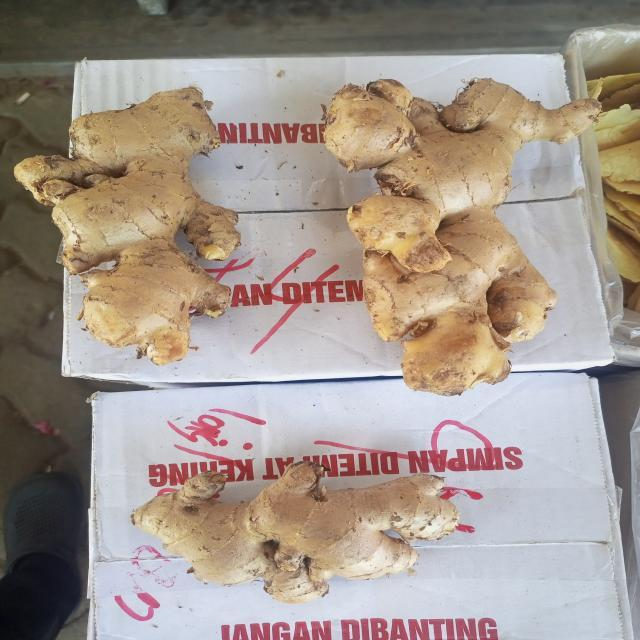ginger: (318, 72, 592, 386), (22, 92, 222, 351), (128, 468, 456, 597)
